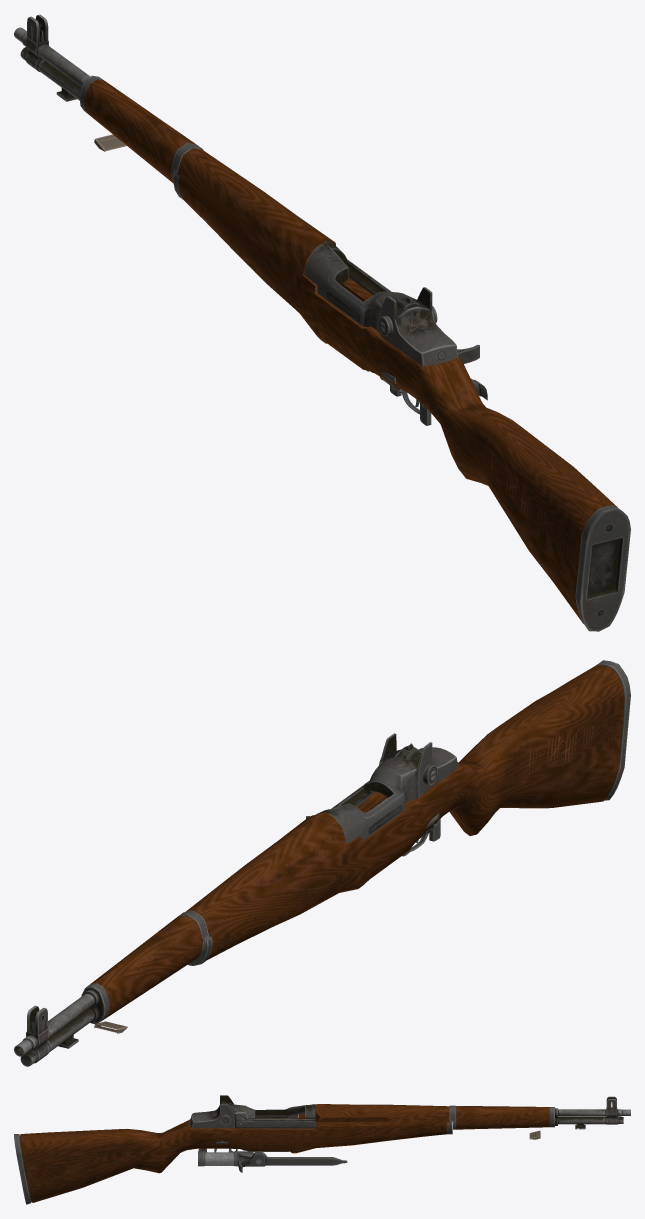
3 renders of one model, top to bottom at view 1: azimuth 30°, elevation 25°; view 2: azimuth 150°, elevation 25°; view 3: azimuth 270°, elevation 25°, orthographic. The views are drawn at different scales.
Parts seen in each view (by area): view 1: Body; view 2: Body; view 3: Body, Bolt.
Boxes of the visible parts, x1,y1,x2,y2 form: Body: (14,14,630,631); Body: (14,660,630,1066); Body: (14,1095,630,1204); Bolt: (198,1151,347,1172).
Bounding box in the file's own units: 0.1295 × 0.2235 × 1.18.
1 material, 1 textured.
